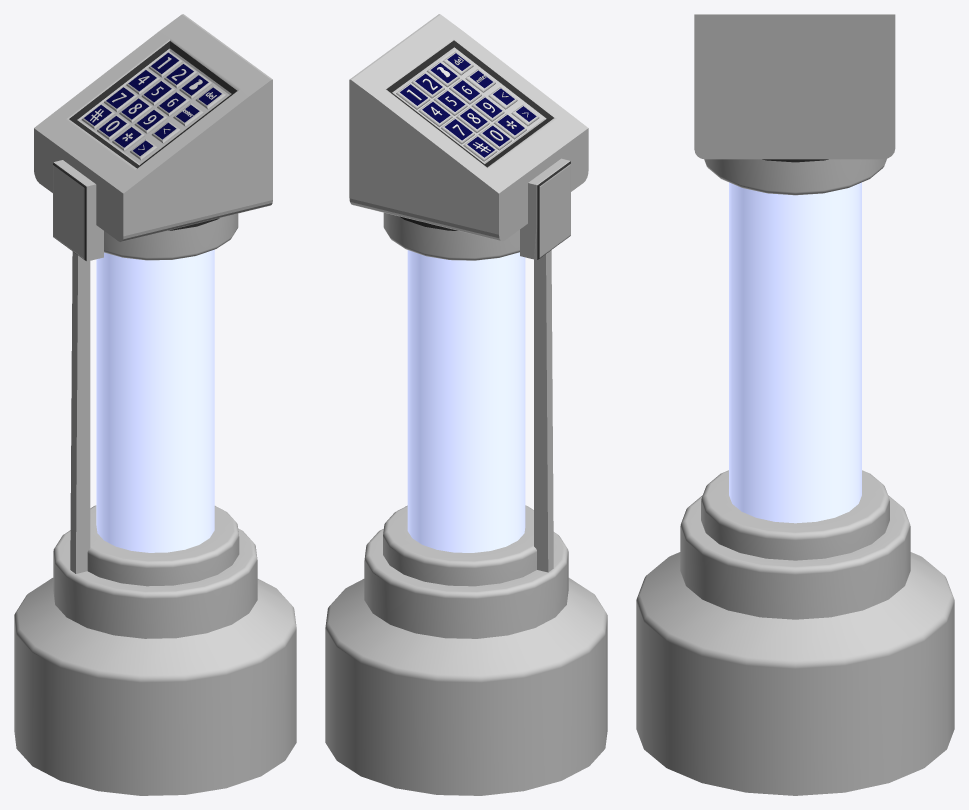
The model's file is num pad.fbx.
3 renders of one model, left to right at view 1: azimuth 30°, elevation 25°; view 2: azimuth 150°, elevation 25°; view 3: azimuth 270°, elevation 25°, orthographic. The views are drawn at different scales.
Parts seen in each view (by area): view 1: polySurface1, polySurface2; view 2: polySurface1, polySurface2; view 3: polySurface1, polySurface2.
Boxes of the visible parts, <box> form: polySurface1: <box>14,213,296,795</box>; polySurface2: <box>34,14,272,573</box>; polySurface1: <box>325,212,607,795</box>; polySurface2: <box>349,14,588,572</box>; polySurface1: <box>636,158,954,795</box>; polySurface2: <box>694,14,895,159</box>.
Size of the model in its own units: 2.62 by 6.85 by 2.62.
